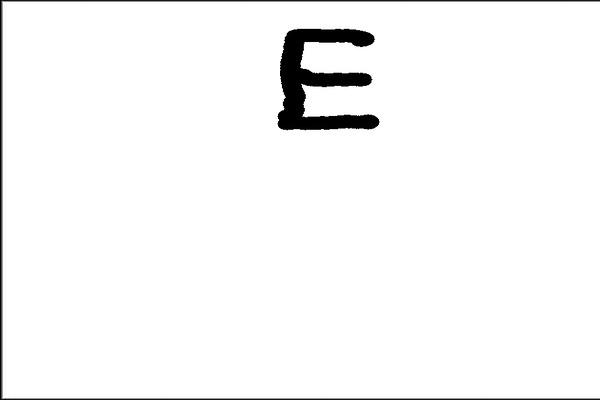E: (272, 21, 383, 139)
